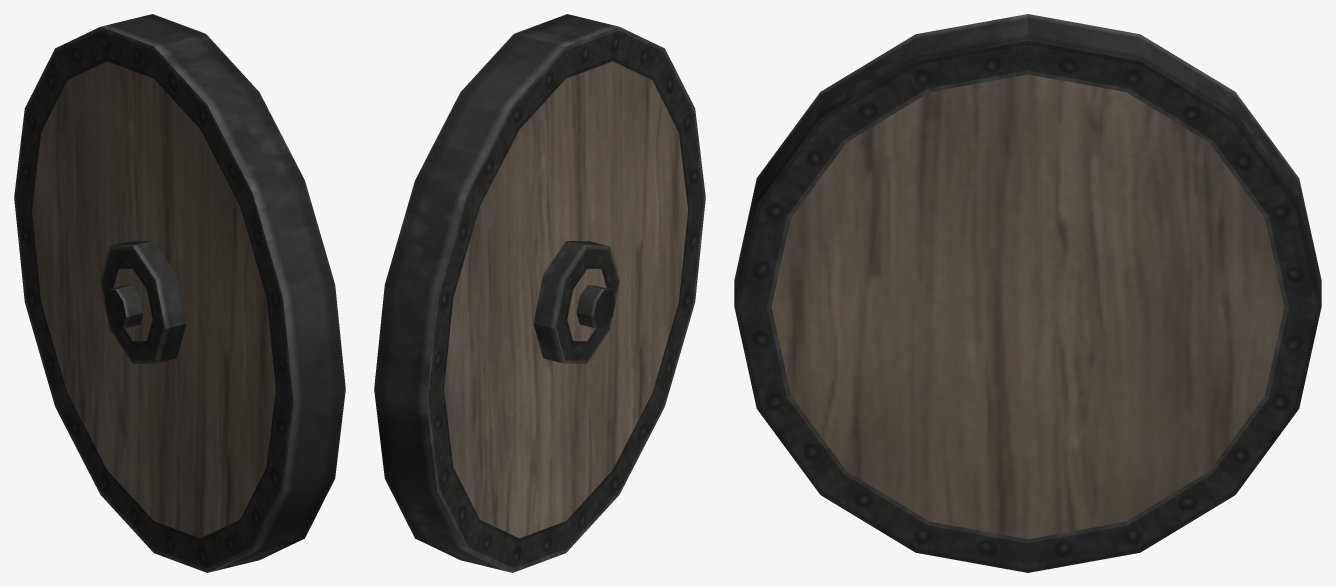
The model's file is Cart_Wheel_B.fbx.
3 renders of one model, left to right at view 1: azimuth 30°, elevation 25°; view 2: azimuth 150°, elevation 25°; view 3: azimuth 270°, elevation 25°, orthographic. The views are drawn at different scales.
Visible parts, largest first — view 1: Cart_Wheel_B; view 2: Cart_Wheel_B; view 3: Cart_Wheel_B.
Boxes of the visible parts, left/top/right/bottom form: Cart_Wheel_B: left=14, top=14, right=345, bottom=572; Cart_Wheel_B: left=374, top=14, right=705, bottom=572; Cart_Wheel_B: left=734, top=14, right=1321, bottom=572.
Size of the model in its own units: 0.3481 by 1.86 by 1.86.
